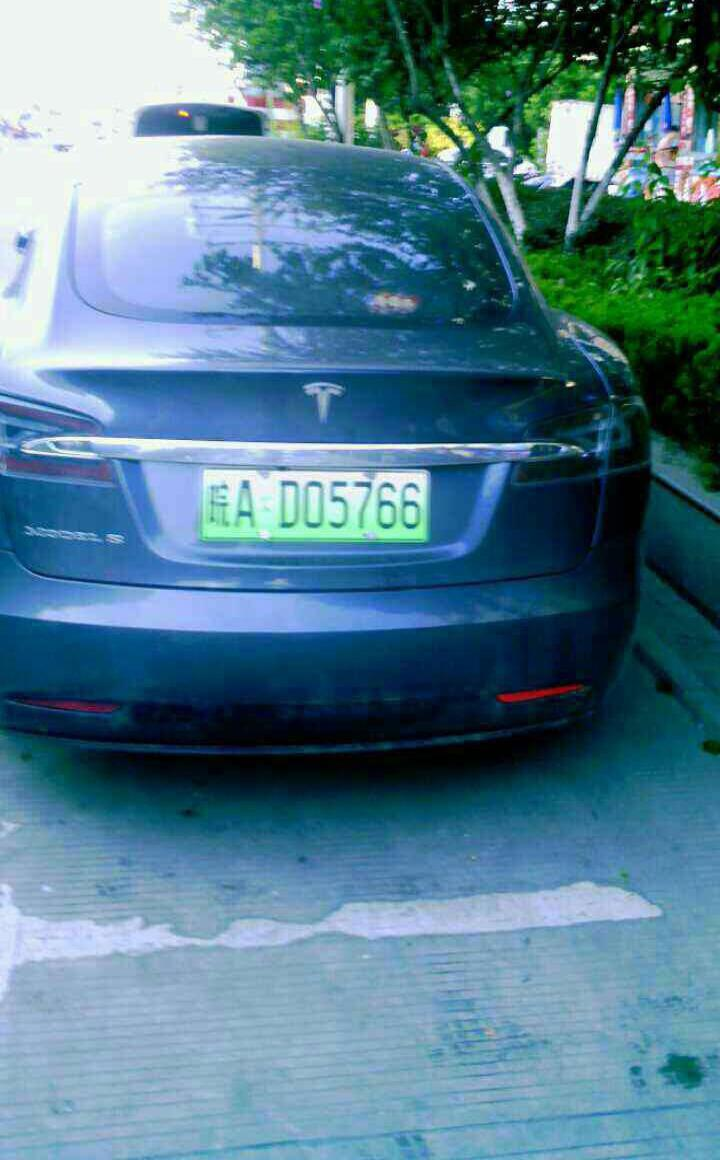car_id: (199, 469, 435, 543)
